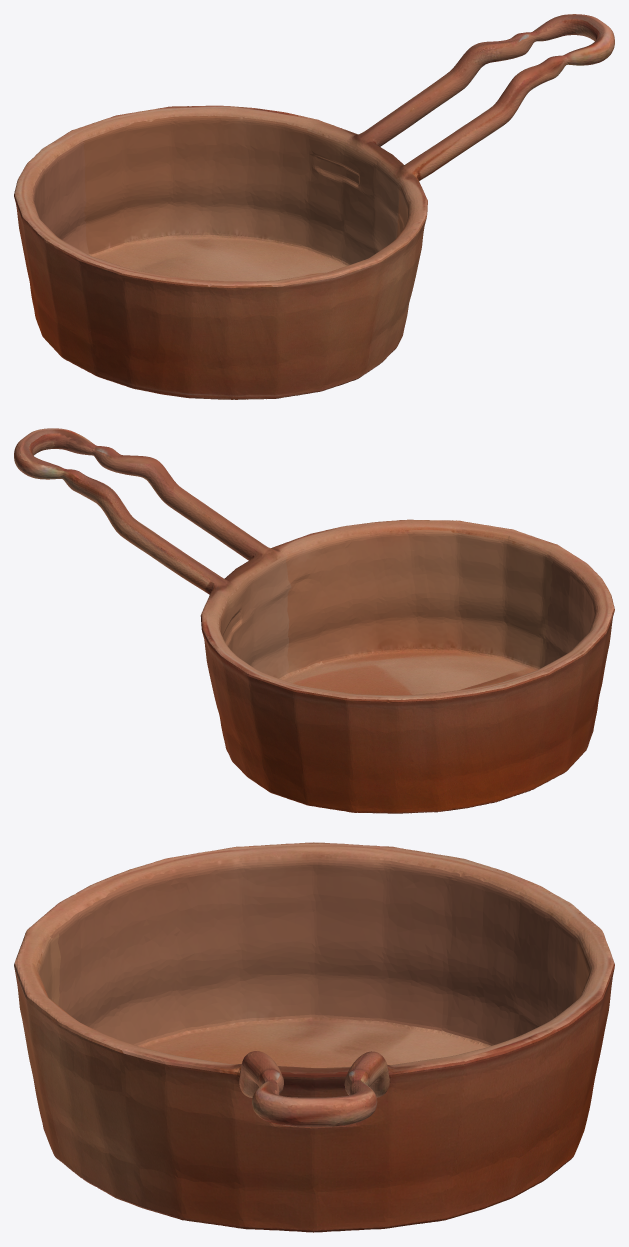
The model's file is image_0000_segmented.glb.
3 views of the same model, one above another, from view 1: azimuth 30°, elevation 25°; view 2: azimuth 150°, elevation 25°; view 3: azimuth 270°, elevation 25° (orthographic). The views are drawn at different scales.
Parts seen in each view (by area): view 1: tmp2cggzovk.ply; view 2: tmp2cggzovk.ply; view 3: tmp2cggzovk.ply.
Boxes of the visible parts, box(x1,y1,x2,y2) form: tmp2cggzovk.ply: box(14, 14, 614, 399); tmp2cggzovk.ply: box(14, 428, 614, 813); tmp2cggzovk.ply: box(14, 842, 614, 1232).
Size of the model in its own units: 1.99 by 0.7033 by 1.35.
Materials: 1 (1 with a texture image).
